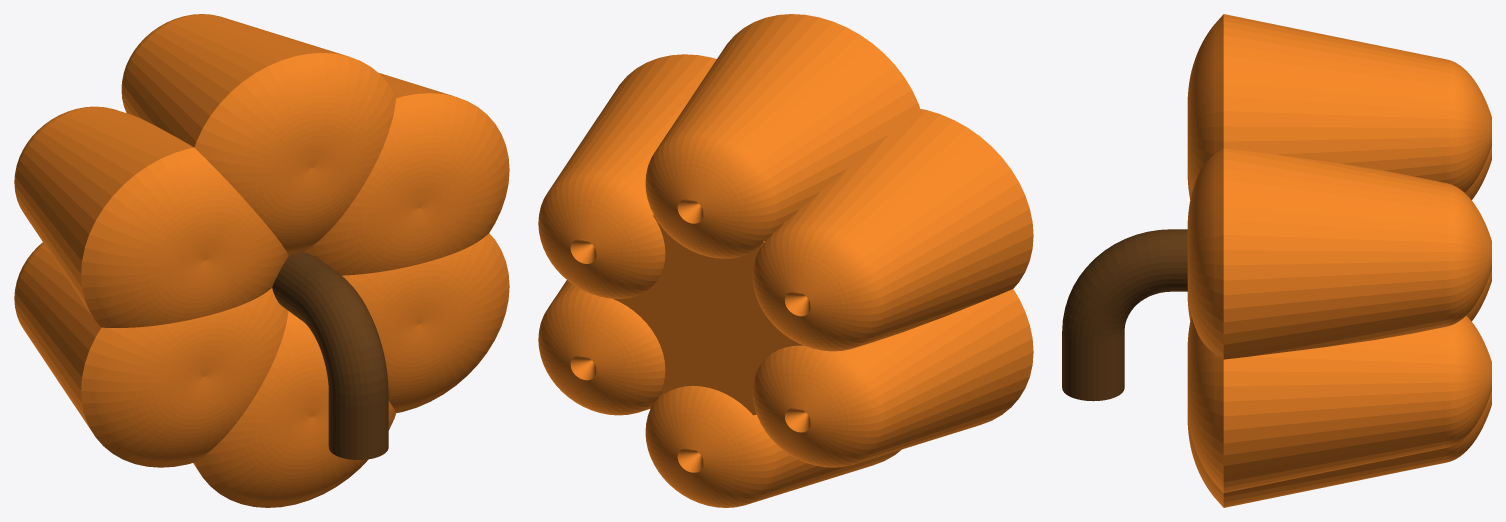
The model's file is tinker.obj.
3 renders of one model, left to right at view 1: azimuth 30°, elevation 25°; view 2: azimuth 150°, elevation 25°; view 3: azimuth 270°, elevation 25°, orthographic. The views are drawn at different scales.
Visible parts, largest first — view 1: obj_4, obj_3, obj_2, obj_5, obj_1, obj_0, obj_6; view 2: obj_4, obj_3, obj_2, obj_5, obj_7, obj_0, obj_1; view 3: obj_5, obj_3, obj_1, obj_6, obj_0.
Boxes of the visible parts, x1,y1,x2,y2 form: obj_4: (14, 106, 288, 327); obj_3: (121, 14, 396, 255); obj_2: (14, 242, 288, 467); obj_5: (304, 72, 509, 275); obj_1: (342, 233, 509, 412); obj_0: (193, 311, 396, 507); obj_6: (272, 252, 388, 459); obj_4: (752, 109, 1033, 351); obj_3: (645, 14, 920, 258); obj_2: (752, 289, 1033, 467); obj_5: (538, 54, 716, 298); obj_7: (613, 215, 803, 415); obj_0: (645, 385, 901, 507); obj_1: (538, 280, 665, 415); obj_5: (1187, 148, 1491, 359); obj_3: (1187, 14, 1491, 192); obj_1: (1187, 315, 1491, 492); obj_6: (1062, 229, 1187, 401); obj_0: (1187, 390, 1491, 507).
Size of the model in its own units: 14 by 14 by 11.67.
